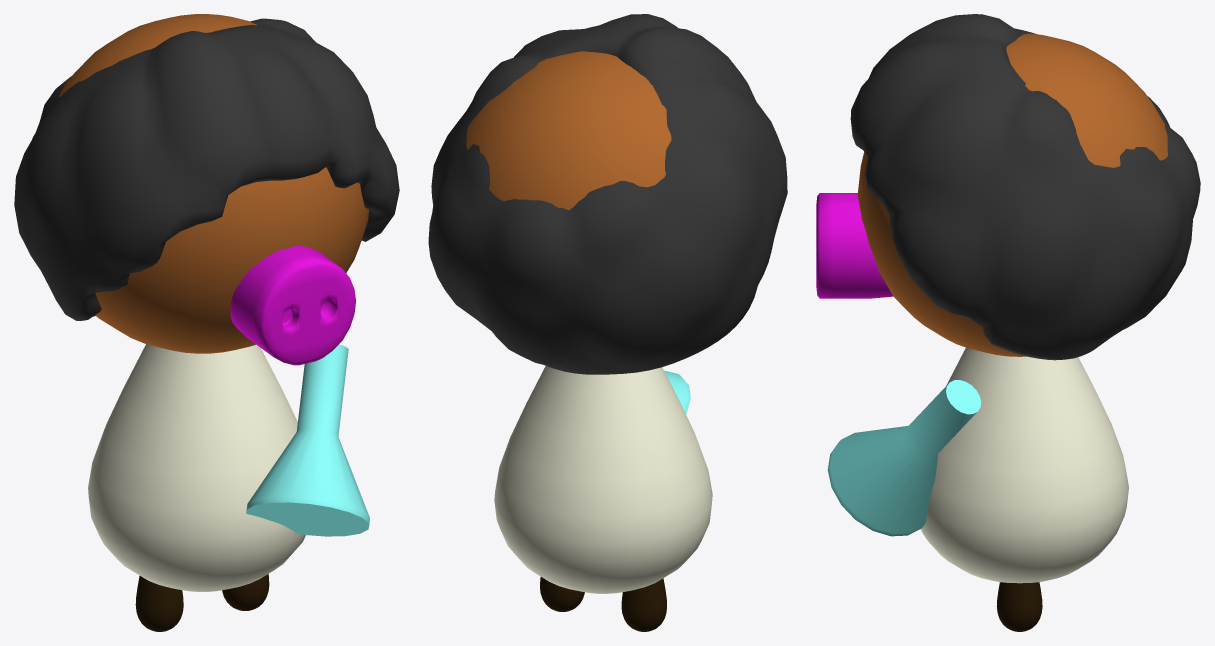
The model's file is Model_Cientifico.FBX.
3 views of the same model, side by side, from view 1: azimuth 30°, elevation 25°; view 2: azimuth 150°, elevation 25°; view 3: azimuth 270°, elevation 25° (orthographic). The views are drawn at different scales.
Parts seen in each view (by area): view 1: Cientifico_Pelo001, Cientifico_Cuerpo, Cientifico_Cabeza, Cientifico_Proveta, Cientifico_ModePig, Cientifico_Pier_Izq001, Cientifico_Pier_Izq; view 2: Cientifico_Pelo001, Cientifico_Cuerpo, Cientifico_Cabeza, Cientifico_Pier_Izq001, Cientifico_Pier_Izq, Cientifico_Proveta; view 3: Cientifico_Pelo001, Cientifico_Cuerpo, Cientifico_Cabeza, Cientifico_Proveta, Cientifico_ModePig, Cientifico_Pier_Izq.
Boxes of the visible parts, left/top/right/bottom form: Cientifico_Pelo001: left=14, top=18, right=399, bottom=320; Cientifico_Cuerpo: left=88, top=344, right=305, bottom=591; Cientifico_Cabeza: left=59, top=14, right=368, bottom=353; Cientifico_Proveta: left=246, top=344, right=369, bottom=536; Cientifico_ModePig: left=230, top=246, right=355, bottom=365; Cientifico_Pier_Izq001: left=135, top=576, right=183, bottom=631; Cientifico_Pier_Izq: left=222, top=574, right=269, bottom=610; Cientifico_Pelo001: left=428, top=14, right=787, bottom=374; Cientifico_Cuerpo: left=494, top=366, right=712, bottom=593; Cientifico_Cabeza: left=466, top=51, right=671, bottom=209; Cientifico_Pier_Izq001: left=621, top=578, right=666, bottom=631; Cientifico_Pier_Izq: left=540, top=577, right=584, bottom=611; Cientifico_Proveta: left=664, top=370, right=690, bottom=414; Cientifico_Pelo001: left=850, top=14, right=1200, bottom=360; Cientifico_Cuerpo: left=920, top=347, right=1128, bottom=583; Cientifico_Cabeza: left=857, top=33, right=1167, bottom=356; Cientifico_Proveta: left=827, top=380, right=981, bottom=536; Cientifico_ModePig: left=816, top=193, right=893, bottom=298; Cientifico_Pier_Izq: left=996, top=582, right=1042, bottom=631.
Bounding box in the file's own units: 67.77 × 121 × 72.92.
